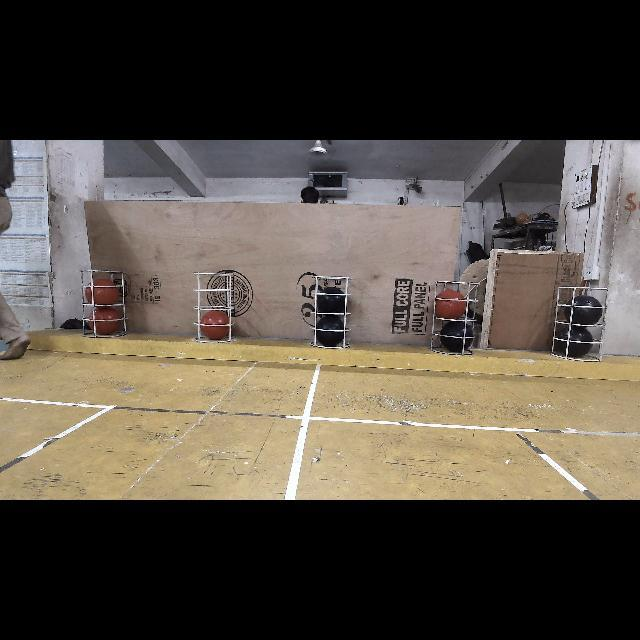P: (554, 326, 592, 358), (564, 295, 602, 325), (440, 321, 474, 352), (316, 315, 344, 347), (316, 288, 346, 315)
R: (89, 306, 121, 335), (85, 279, 120, 305), (200, 310, 230, 340), (435, 290, 466, 319)
S: (553, 283, 609, 362), (78, 271, 134, 341), (194, 270, 240, 346), (436, 281, 479, 353), (308, 276, 352, 346)
